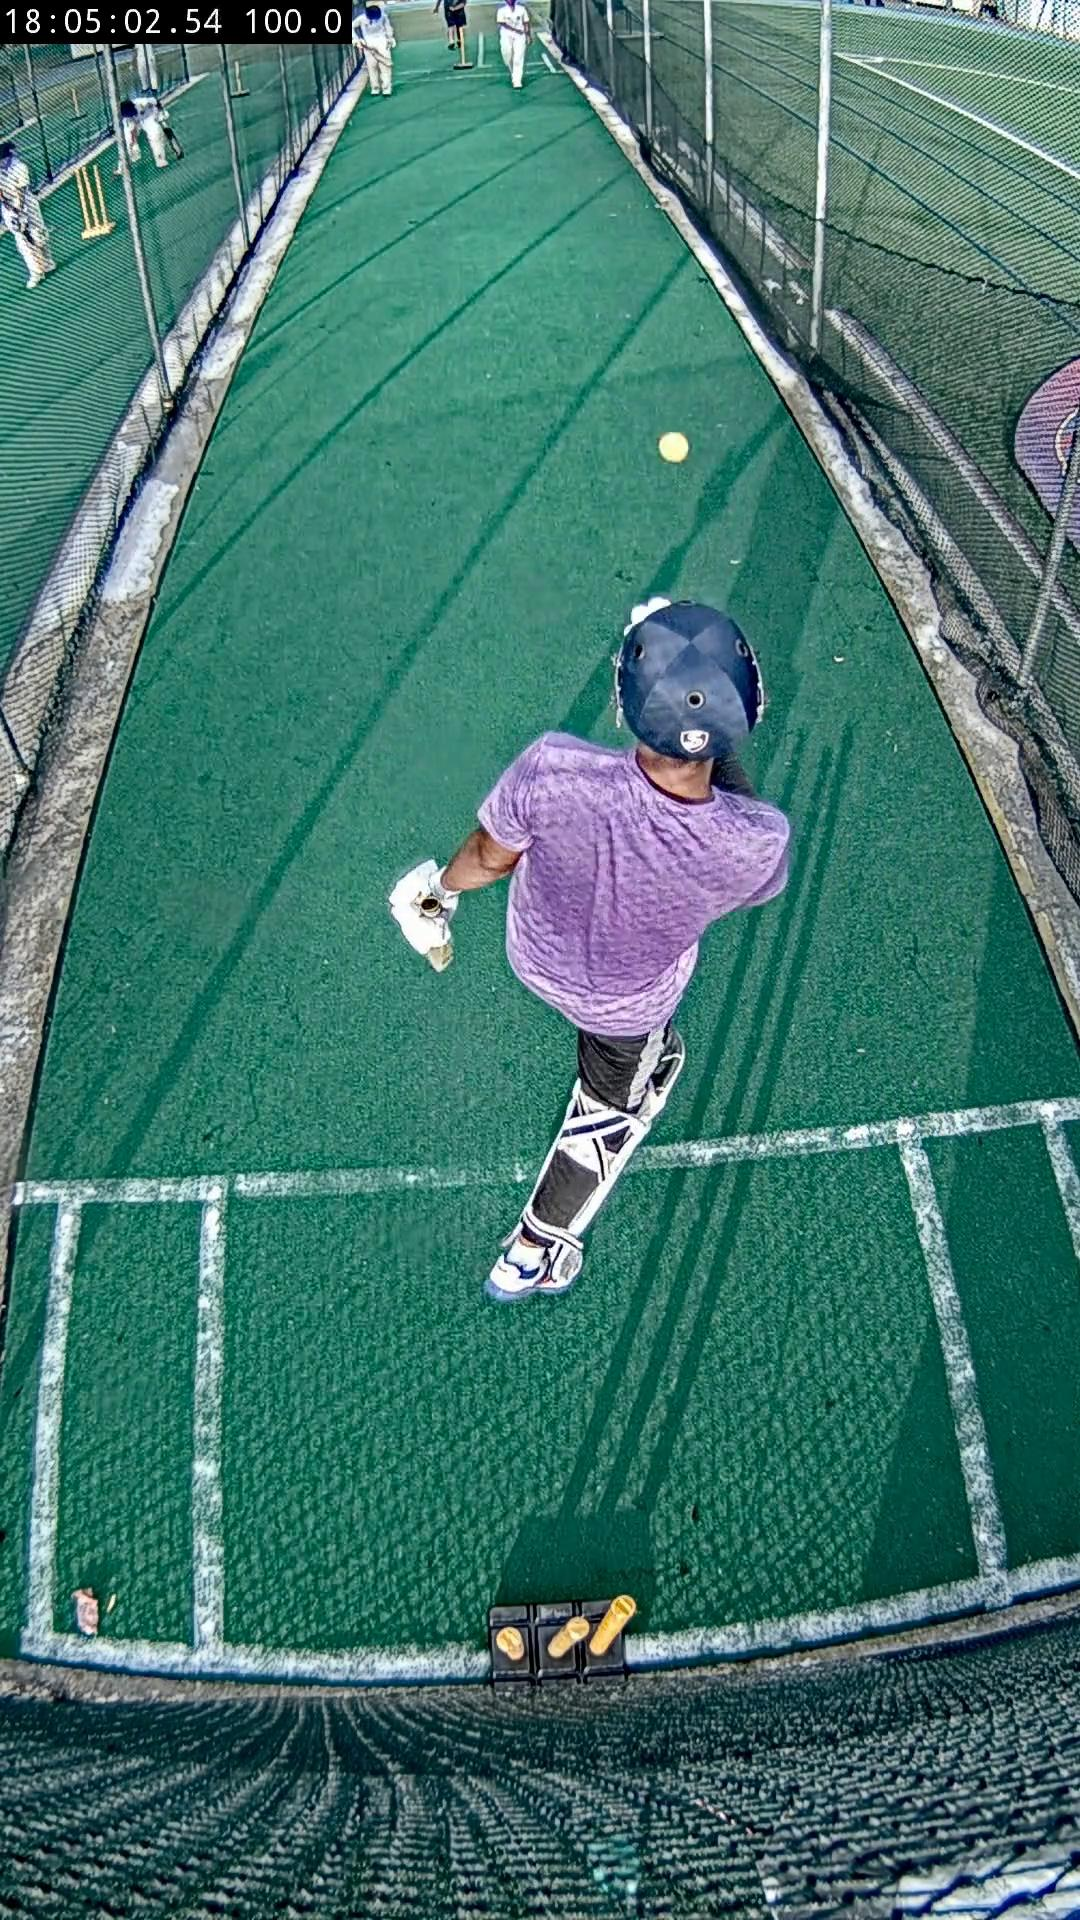ball: (657, 431, 690, 462)
bat: (427, 942, 454, 972)
gloves: (390, 862, 450, 952), (622, 596, 671, 632)
helmet: (618, 600, 765, 761)
stumps: (488, 1594, 634, 1684)
